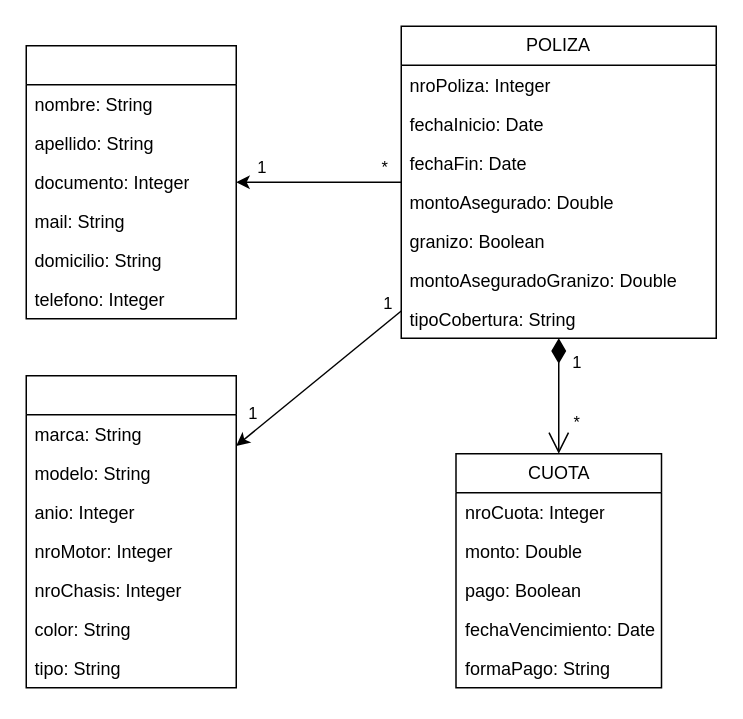
Image size: 743x719. Some labels were removed from this diagram. Here are the shapes that lost their labels. From the top down, the box of each, then its label:
(25, 44, 236, 319): CLIENTE
(25, 374, 236, 688): VEHICULO
